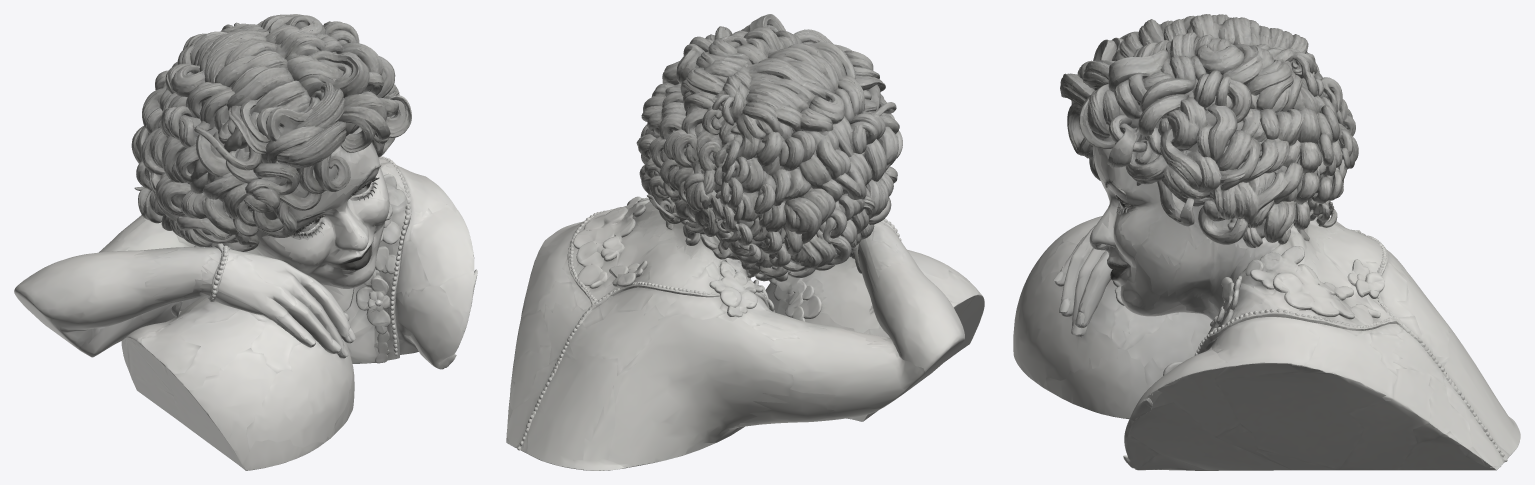
Rendered from clara.glb.
The picture shows the model from 3 angles, left to right: view 1: azimuth 30°, elevation 25°; view 2: azimuth 150°, elevation 25°; view 3: azimuth 270°, elevation 25°; orthographic projection. The views are drawn at different scales.
Visible parts, largest first — view 1: Object_01; view 2: Object_01; view 3: Object_01.
Part boxes in pixels (x1,y1,x2,y2): Object_01: (14, 14, 477, 470); Object_01: (506, 14, 984, 470); Object_01: (1013, 14, 1520, 470).
Bounding box in the file's own units: 1.9 × 1.53 × 1.88.
1 material, 1 textured.
